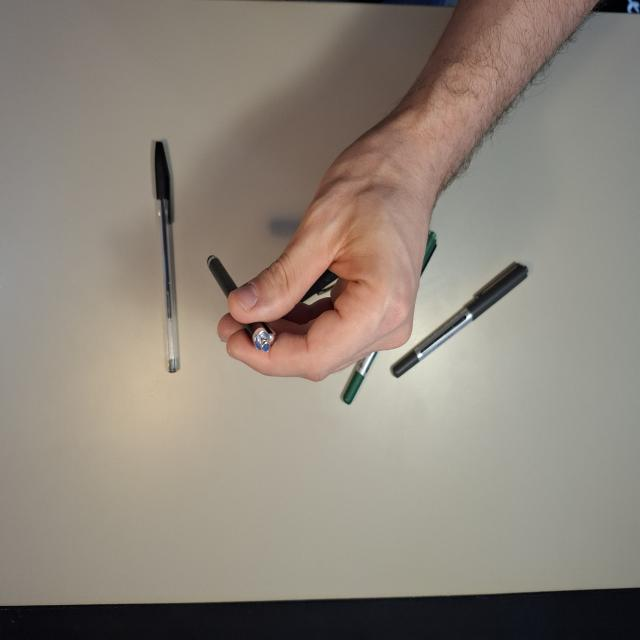glove_off: (216, 91, 464, 387)
